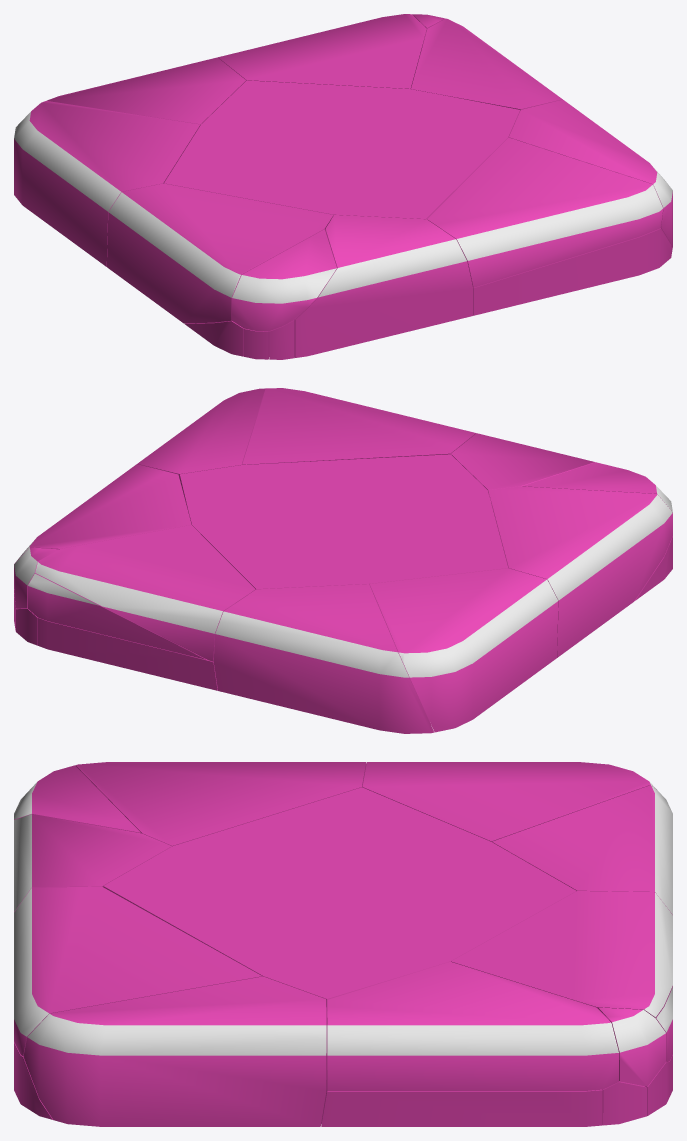
File: Cube_Parts.fbx
3 views of the same model, one above another, from view 1: azimuth 30°, elevation 25°; view 2: azimuth 150°, elevation 25°; view 3: azimuth 270°, elevation 25° (orthographic). The views are drawn at different scales.
Parts seen in each view (by area): view 1: CUbe_Deced_cell.002, CUbe_Deced_cell.004, CUbe_Deced_cell.014, CUbe_Deced_cell.012, CUbe_Deced_cell.018, CUbe_Deced_cell.013, CUbe_Deced_cell.005, CUbe_Deced_cell.003, CUbe_Deced_cell.007, CUbe_Deced_cell.010, CUbe_Deced_cell.006, CUbe_Deced_cell.011 (+2 smaller); view 2: CUbe_Deced_cell.002, CUbe_Deced_cell.003, CUbe_Deced_cell.018, CUbe_Deced_cell.014, CUbe_Deced_cell.013, CUbe_Deced_cell.004, CUbe_Deced_cell.005, CUbe_Deced_cell.006, CUbe_Deced_cell.019, CUbe_Deced_cell.012, CUbe_Deced_cell, CUbe_Deced_cell.010 (+3 smaller); view 3: CUbe_Deced_cell.002, CUbe_Deced_cell.006, CUbe_Deced_cell.005, CUbe_Deced_cell.004, CUbe_Deced_cell.013, CUbe_Deced_cell.014, CUbe_Deced_cell.018, CUbe_Deced_cell.003, CUbe_Deced_cell.009, CUbe_Deced_cell.012, CUbe_Deced_cell.010, CUbe_Deced_cell.001 (+4 smaller).
Part boxes in pixels (x1,y1,x2,y2): CUbe_Deced_cell.002: (164, 80, 520, 219); CUbe_Deced_cell.004: (427, 137, 663, 287); CUbe_Deced_cell.014: (107, 183, 333, 323); CUbe_Deced_cell.012: (294, 215, 473, 357); CUbe_Deced_cell.018: (14, 101, 200, 266); CUbe_Deced_cell.013: (218, 14, 426, 88); CUbe_Deced_cell.005: (411, 18, 562, 110); CUbe_Deced_cell.003: (46, 57, 246, 125); CUbe_Deced_cell.007: (473, 228, 671, 315); CUbe_Deced_cell.010: (232, 229, 336, 331); CUbe_Deced_cell.006: (509, 99, 672, 251); CUbe_Deced_cell.011: (185, 320, 243, 356); CUbe_Deced_cell.002: (179, 454, 508, 597); CUbe_Deced_cell.003: (213, 584, 434, 733); CUbe_Deced_cell.018: (370, 568, 558, 732); CUbe_Deced_cell.014: (488, 486, 672, 657); CUbe_Deced_cell.013: (35, 525, 255, 661); CUbe_Deced_cell.004: (242, 388, 476, 464); CUbe_Deced_cell.005: (14, 464, 191, 563); CUbe_Deced_cell.006: (137, 388, 265, 476); CUbe_Deced_cell.019: (37, 617, 217, 690); CUbe_Deced_cell.012: (451, 433, 594, 501); CUbe_Deced_cell: (28, 573, 205, 659); CUbe_Deced_cell.010: (522, 462, 672, 512); CUbe_Deced_cell.002: (103, 787, 576, 1051); CUbe_Deced_cell.006: (23, 976, 327, 1126); CUbe_Deced_cell.005: (327, 961, 618, 1090); CUbe_Deced_cell.004: (14, 886, 262, 1056); CUbe_Deced_cell.013: (451, 891, 672, 1017); CUbe_Deced_cell.014: (75, 762, 366, 846); CUbe_Deced_cell.018: (362, 762, 656, 841); CUbe_Deced_cell.003: (492, 785, 672, 914); CUbe_Deced_cell.009: (321, 1070, 602, 1126); CUbe_Deced_cell.012: (14, 814, 171, 912); CUbe_Deced_cell.010: (14, 765, 140, 832); CUbe_Deced_cell.001: (598, 1007, 666, 1086).
Size of the model in its own units: 2 by 0.3145 by 2.
